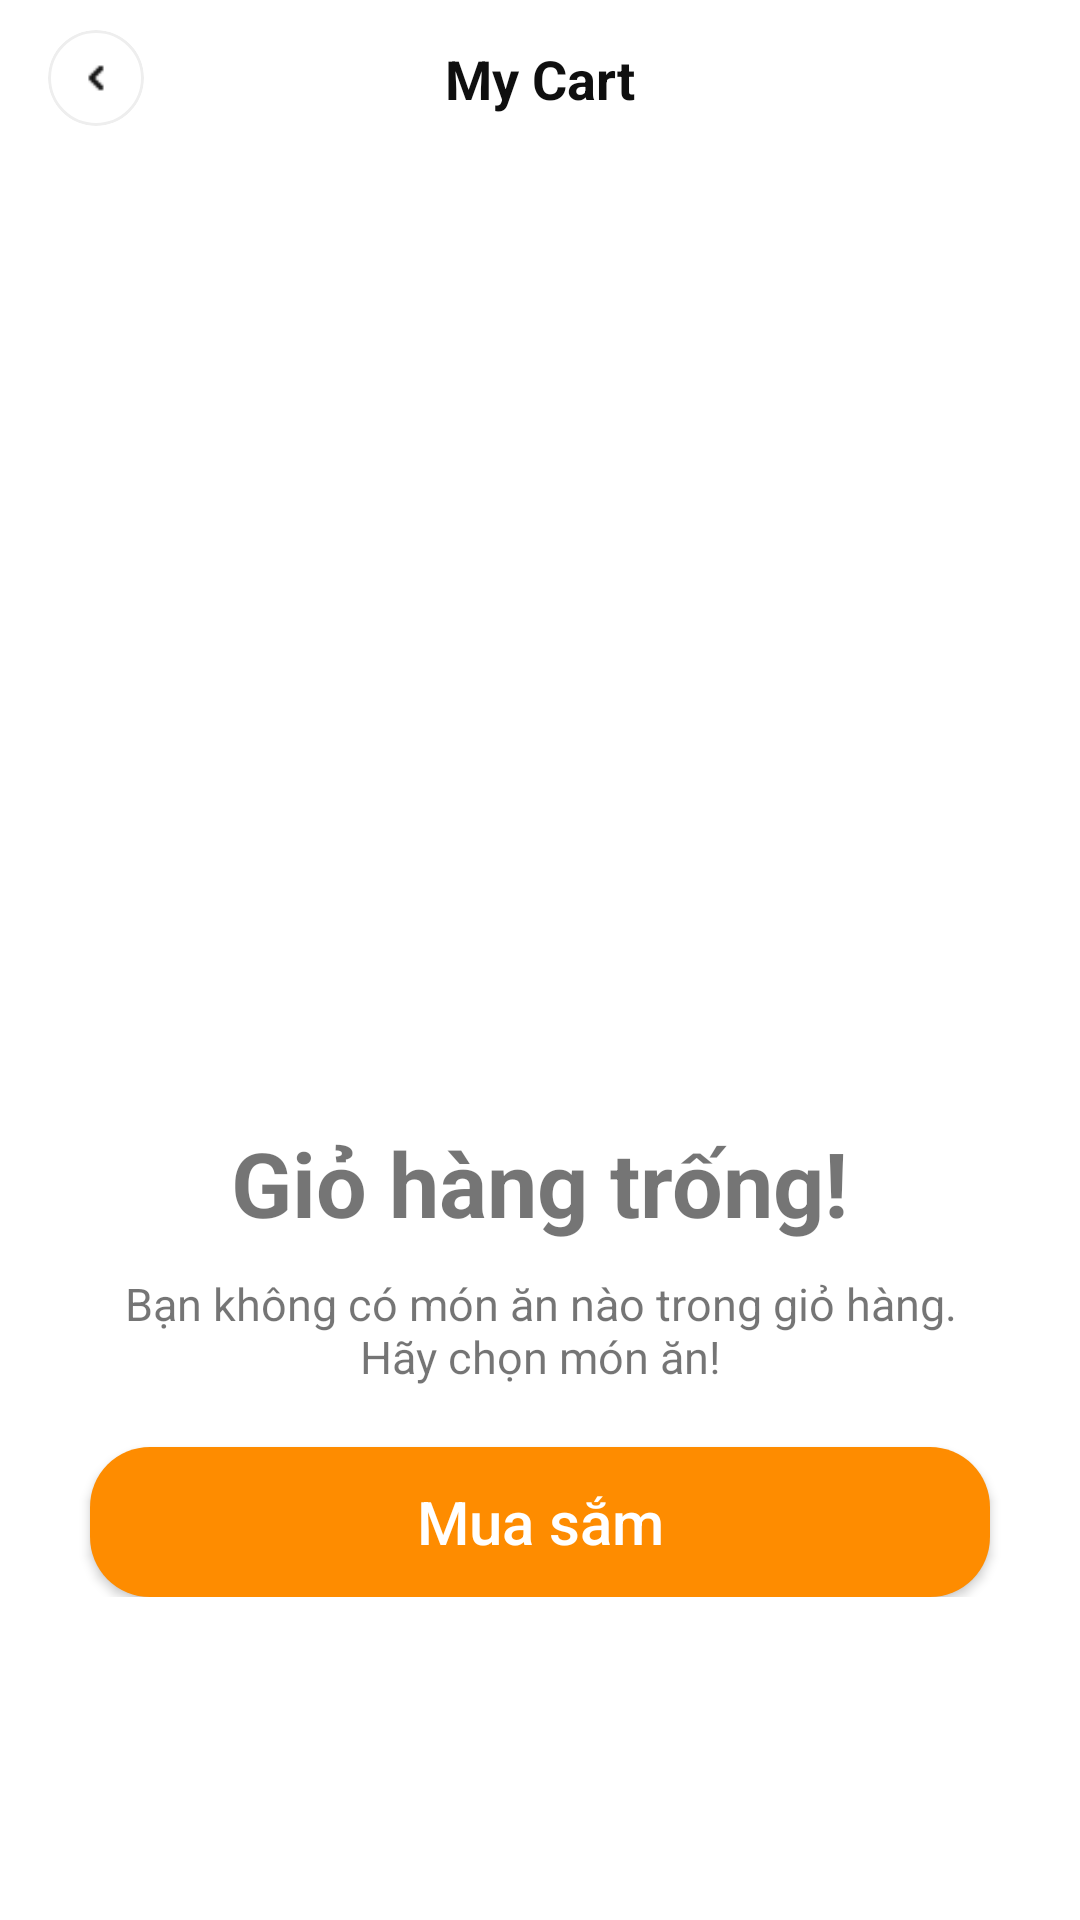

Named icons in this screenshot (1080×1920) and their bounding boxes, (left=x1, top=y1, right=x2, bottom=y2):
back: (left=88, top=65, right=104, bottom=91)
